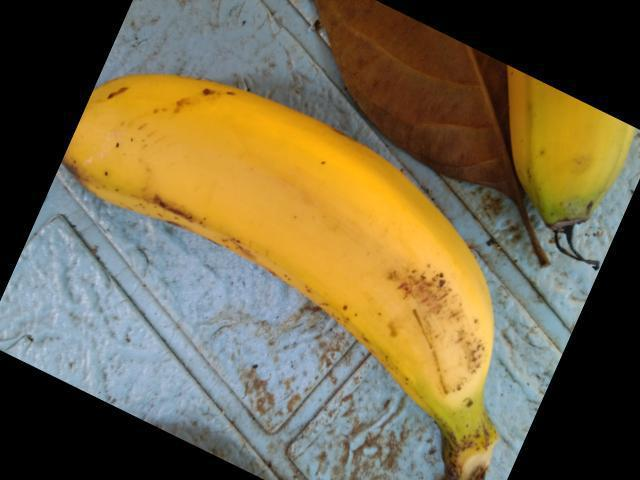ripe: (66, 71, 507, 439)
